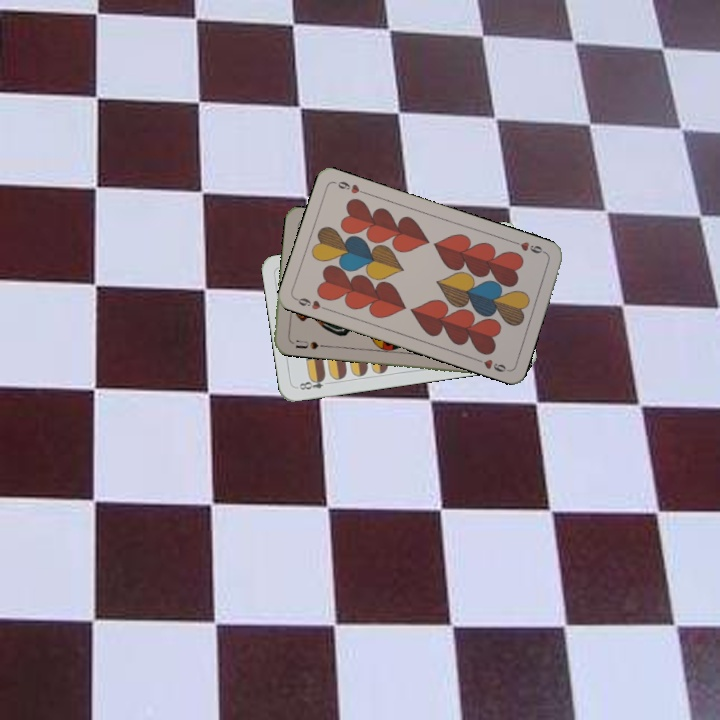E8: (293, 373, 328, 392)
H9: (509, 237, 549, 257), (291, 294, 331, 313)
SU: (291, 336, 321, 352)
